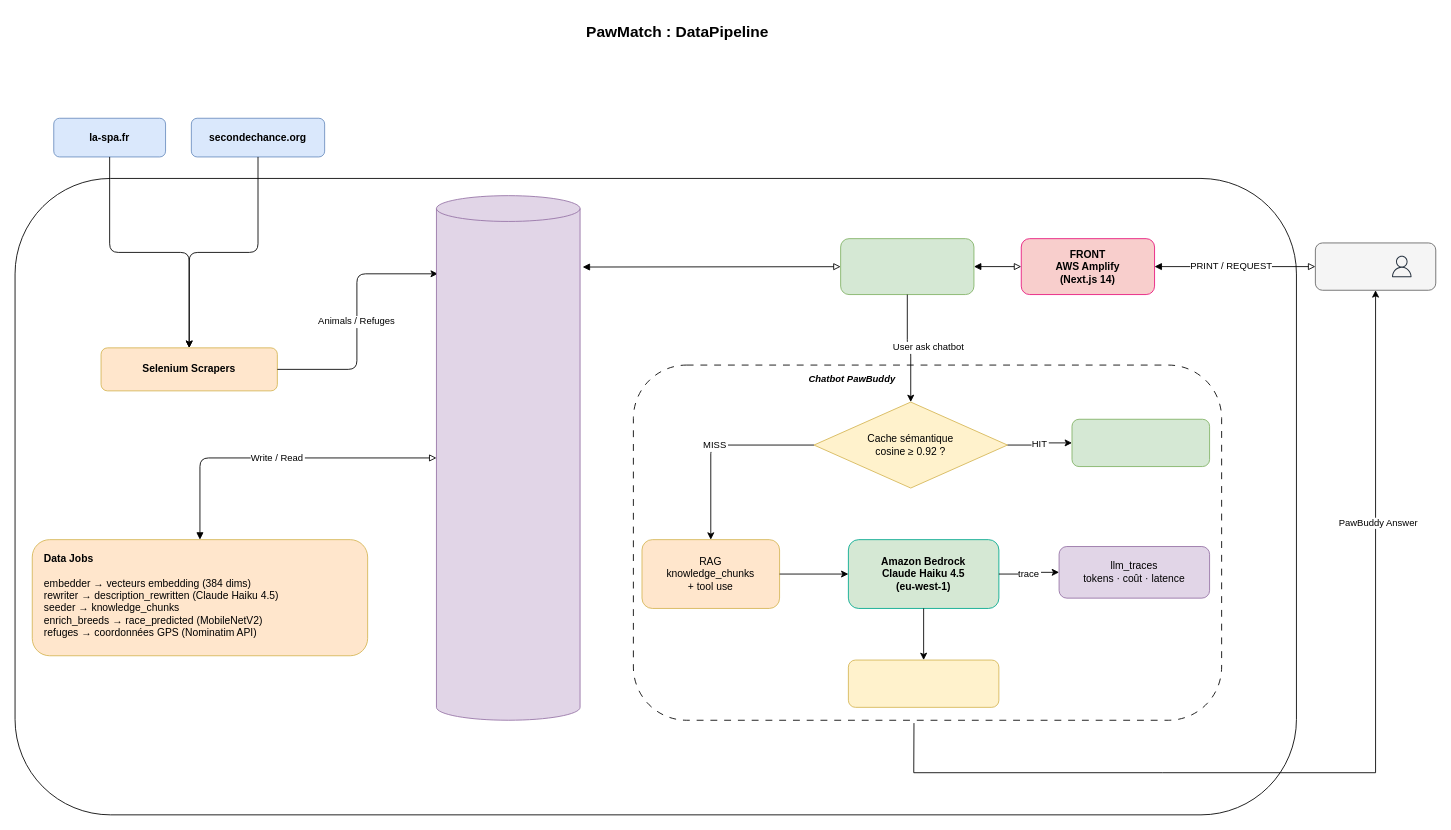
This 1451x830 diagram has some shape labels left out. The shapes that lost their labels are listed below. From the top down, each one's box as (x1, y1, x2, y2) in pixels, then its label:
(840, 238, 974, 295): FastAPI REST :8000
(1315, 242, 1436, 290): User
(436, 195, 580, 720): PostgreSQL / PGvector
(1071, 418, 1210, 467): Réponse instantanée ~ 30 ms / $0
(848, 659, 999, 707): SSE streaming token par token
